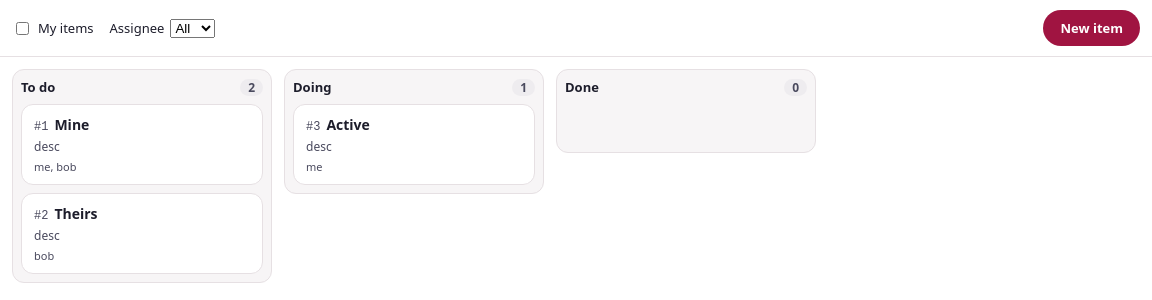
Scenario: BoardView › My items hides others and lane counts follow the filter
Click the checkbox labelled "My items": {"x": 22, "y": 28} [16,22,29,34]
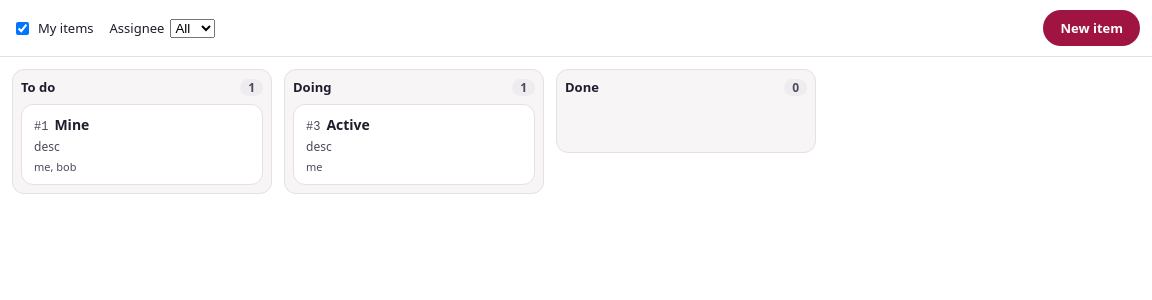
Expected: the text "Mine" is shown, [54,115,89,134]
Now the button "Theirs" is gone
Now the text named "1 items" is shown, box [240,78,263,96]
